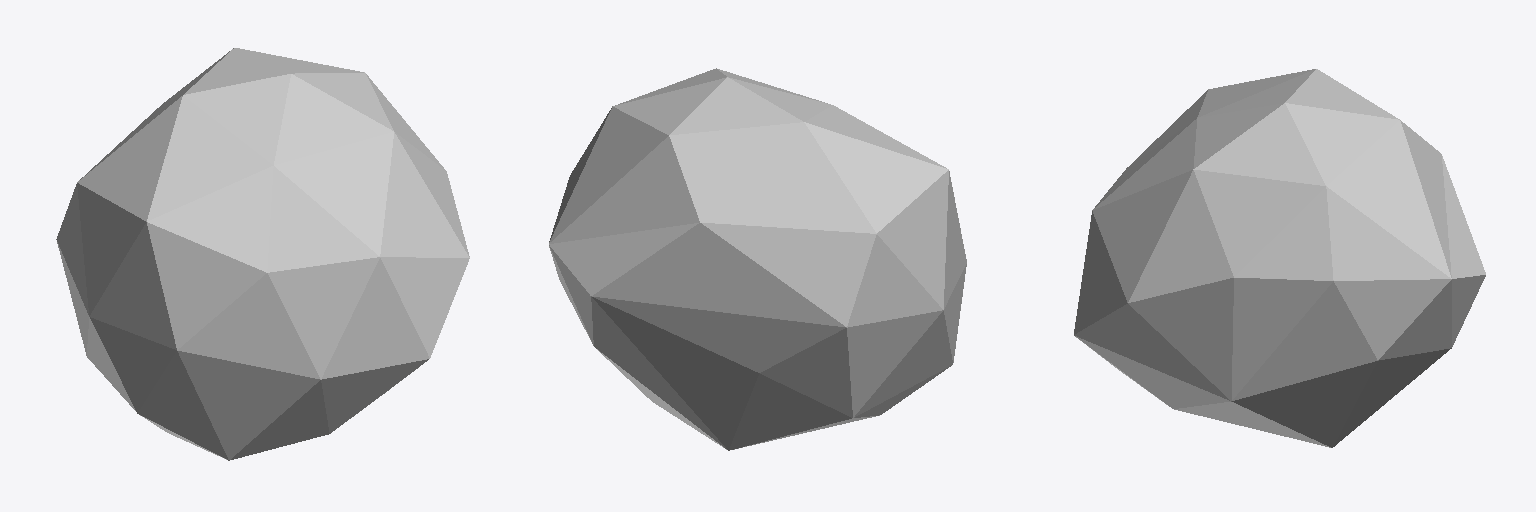
File: asteroid_s.obj
3 renders of one model, left to right at view 1: azimuth 30°, elevation 25°; view 2: azimuth 150°, elevation 25°; view 3: azimuth 270°, elevation 25°, orthographic.
Visible parts, largest first — view 1: Asteroid_S_1_Icosphere.003; view 2: Asteroid_S_1_Icosphere.003; view 3: Asteroid_S_1_Icosphere.003.
Boxes of the visible parts, <box> form: Asteroid_S_1_Icosphere.003: <box>56,48,469,460</box>; Asteroid_S_1_Icosphere.003: <box>549,68,966,450</box>; Asteroid_S_1_Icosphere.003: <box>1074,69,1485,447</box>.
Bounding box in the file's own units: 3.14 × 3 × 3.28.